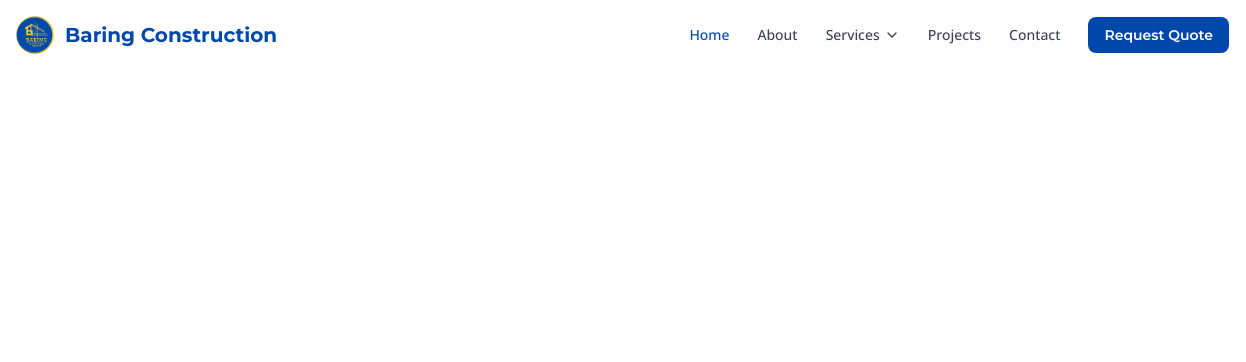
Test: Navbar › Dropdown › opens dropdown on click showing menu items
Click the button "Services" at (863, 35), box [814,17,912,53]
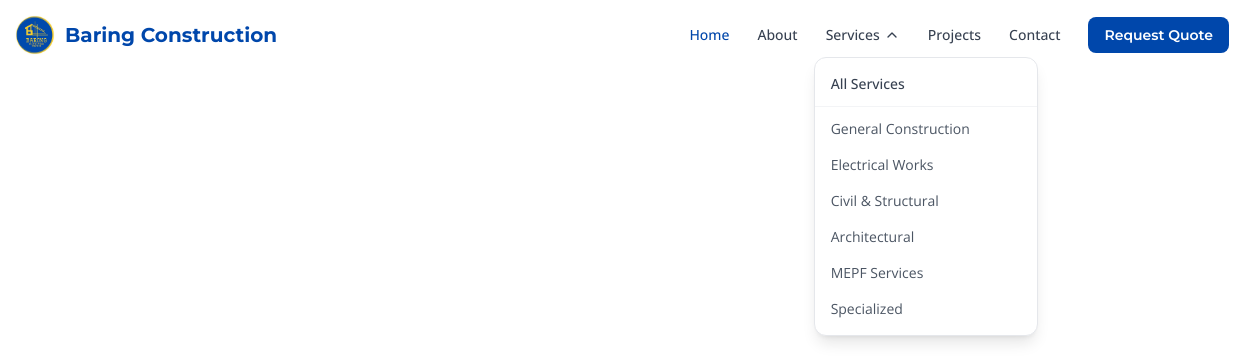
Expected: the menu is shown, [814,57,1038,336]
Expected: the menu item "All Services" is shown, [831,74,905,93]
